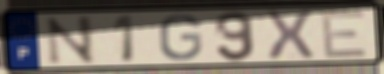1: (110, 13, 136, 65)
9: (212, 9, 258, 63)
E: (318, 8, 370, 60)
G: (157, 13, 205, 63)
N: (44, 15, 99, 67)
X: (262, 9, 317, 63)
